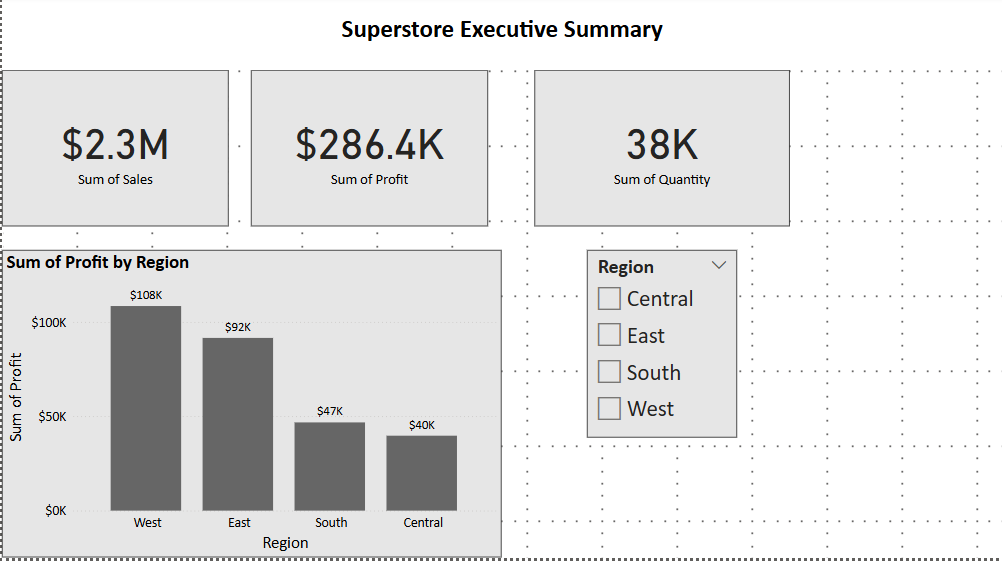

This screenshot's page, from the dashboard's own definition file:
{"tool":"powerbi","page":{"name":"Overall Performance Summary","canvas":[1280,720],"ordinal":0},"visuals":[{"type":"card","fields":{"Values":["Sum(Sample - Superstore.Sales)"]},"box":[0,96,289.9,199.7],"z":0},{"type":"card","fields":{"Values":["Sum(Sample - Superstore.Profit)"]},"box":[318.7,96,303.4,199.7],"z":1000},{"type":"card","fields":{"Values":["Sum(Sample - Superstore.Quantity)"]},"box":[681.6,96,326.4,199.7],"z":2000},{"type":"columnChart","fields":{"Category":["Sample - Superstore.Region"],"Y":["Sum(Sample - Superstore.Profit)"]},"box":[0,326.4,639.4,393.6],"z":3000},{"type":"slicer","fields":{"Values":["Sample - Superstore.Region"]},"box":[748.8,326.4,192,240],"z":4000},{"type":"textbox","box":[0,0,1280.6,96],"z":5000}]}

Visuals, with their boxes in screenshot pixels (x1, y1, x2, y2), scaled from the page's 1280x720 canvas onto the 1002x563 screenshot:
card - Sum(Sample - Superstore.Sales): 0 75 227 231
card - Sum(Sample - Superstore.Profit): 249 75 487 231
card - Sum(Sample - Superstore.Quantity): 534 75 789 231
columnChart - Sample - Superstore.Region x Sum(Sample - Superstore.Profit): 0 255 501 562
slicer - Sample - Superstore.Region: 586 255 736 443
textbox: 0 0 1001 75
